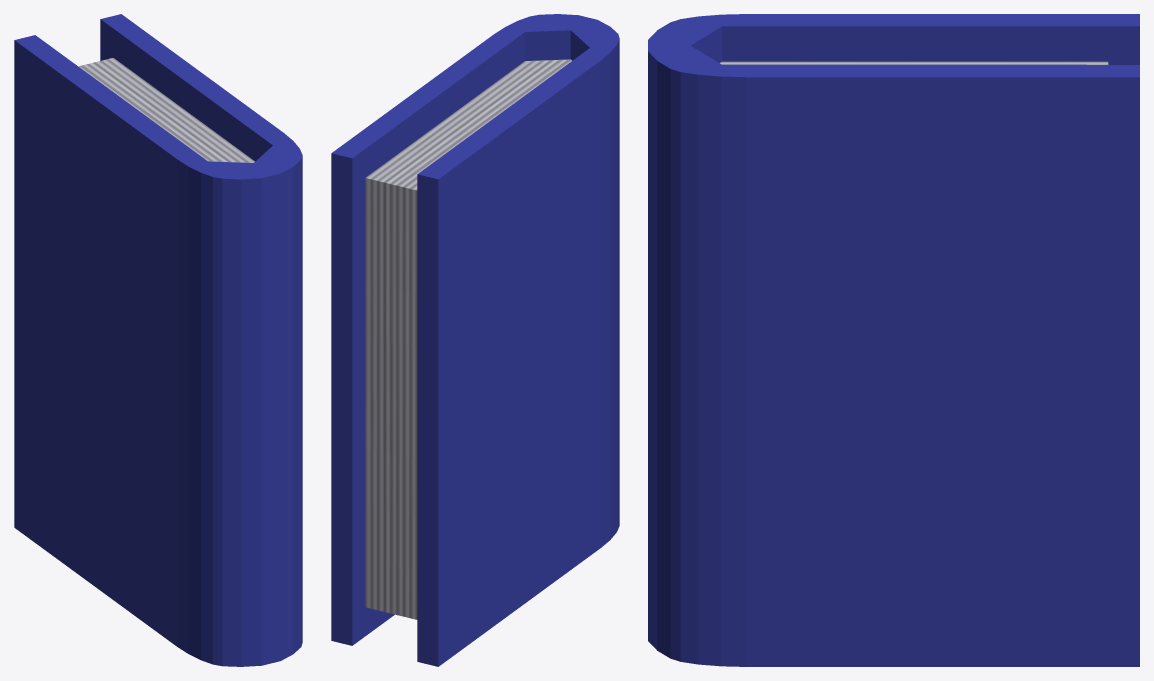
The model's file is SM_Book.fbx.
The picture shows the model from 3 angles, left to right: view 1: azimuth 30°, elevation 25°; view 2: azimuth 150°, elevation 25°; view 3: azimuth 270°, elevation 25°; orthographic projection. The views are drawn at different scales.
Parts seen in each view (by area): view 1: Cube; view 2: Cube; view 3: Cube.
Part boxes in pixels (x1=…): Cube: x1=14, y1=14, x2=302, y2=666; Cube: x1=331, y1=14, x2=619, y2=666; Cube: x1=648, y1=14, x2=1139, y2=666.
Bounding box in the file's own units: 10.1 × 43.97 × 33.24.
Materials: 2 (1 with a texture image).
